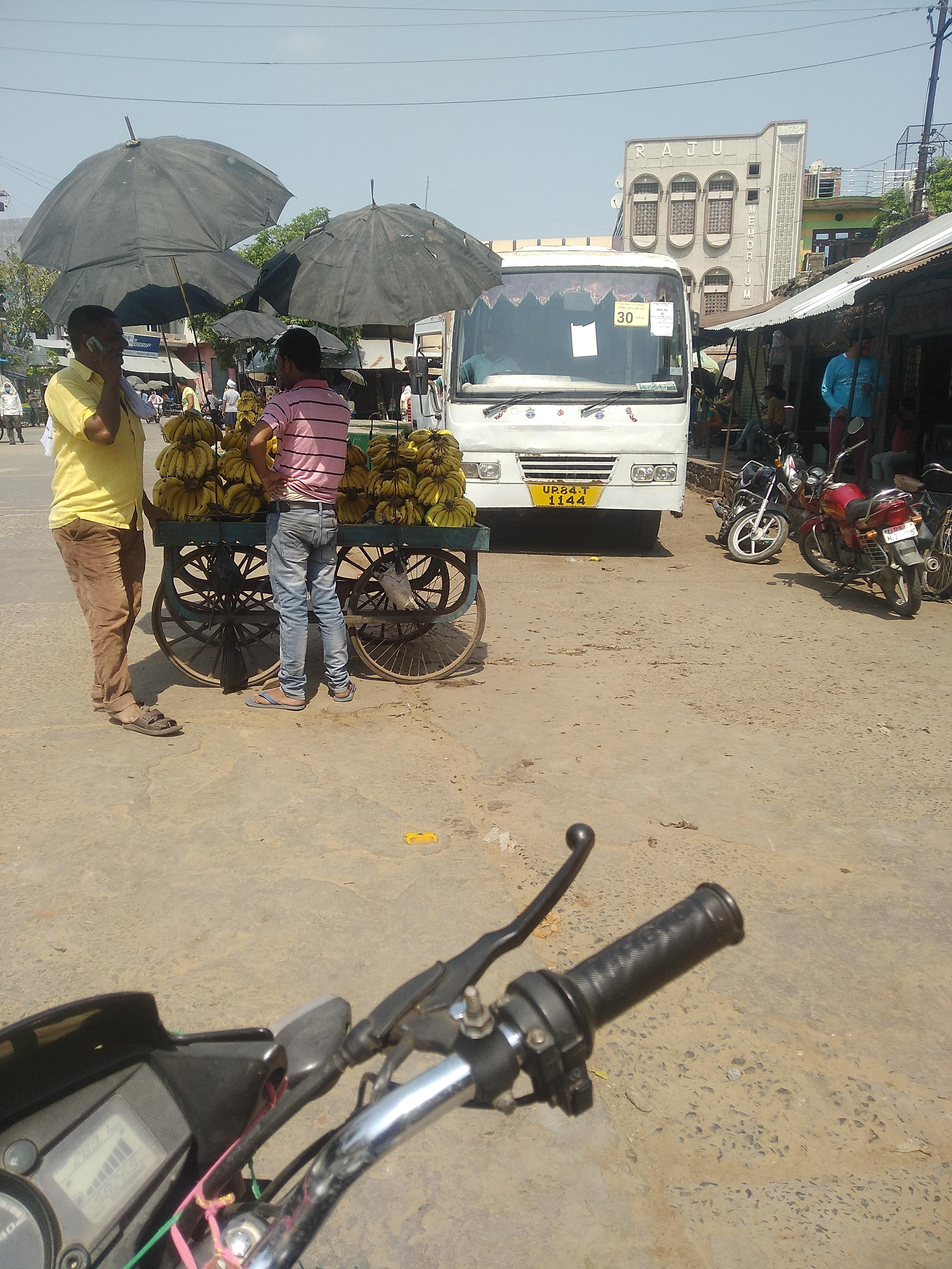non-ambulance: (426, 173, 737, 587)
